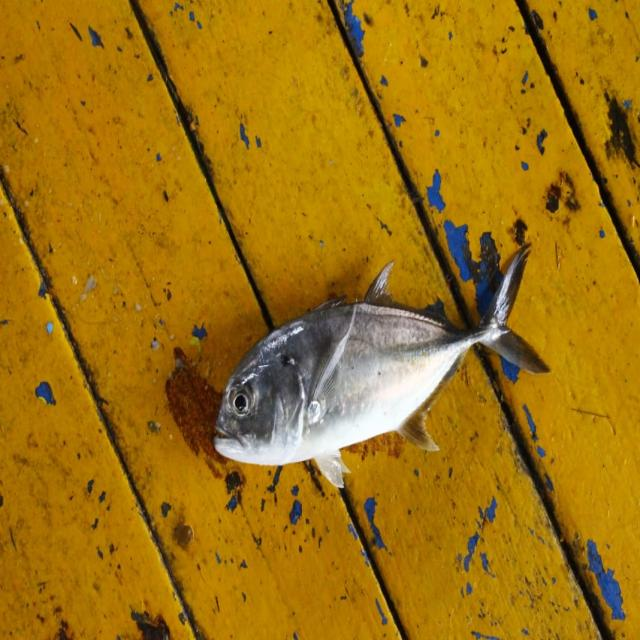ikan: (199, 226, 553, 517)
